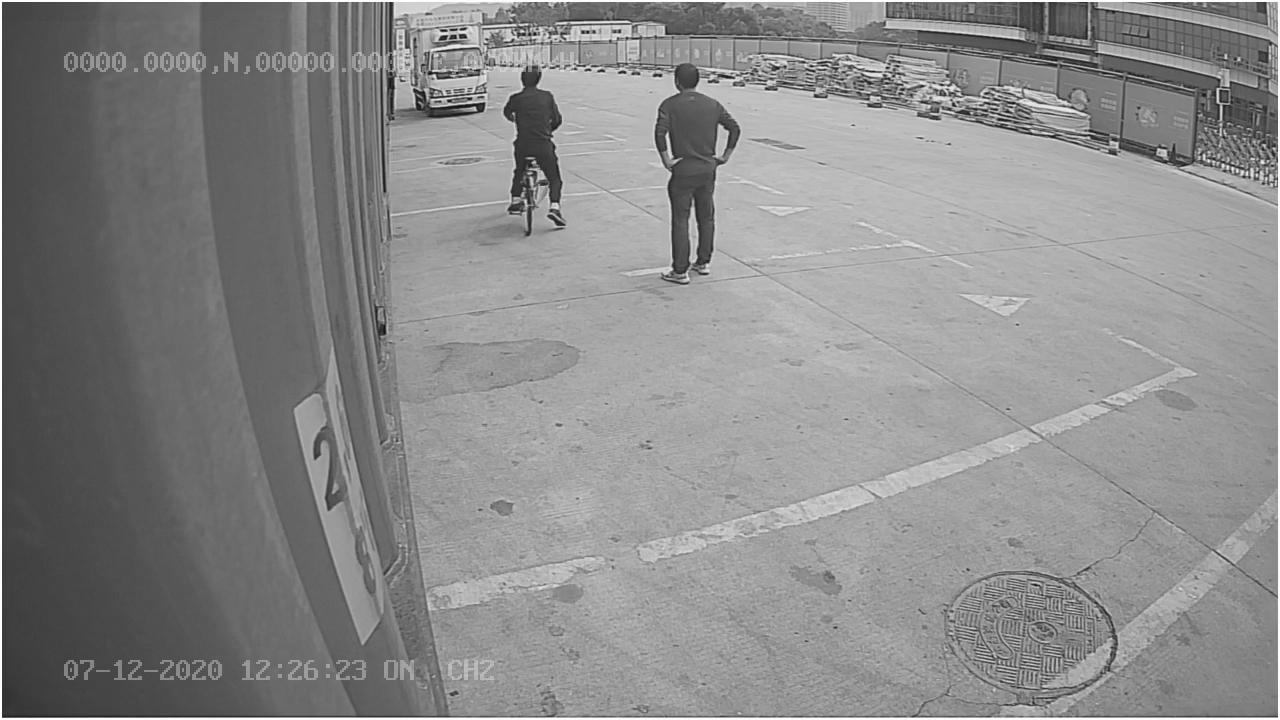person: (649, 62, 746, 293)
